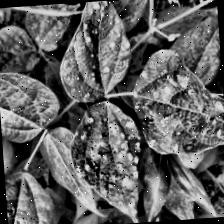Bean Rust: (132, 42, 224, 161), (68, 100, 144, 221), (59, 0, 138, 103), (202, 0, 219, 31)
